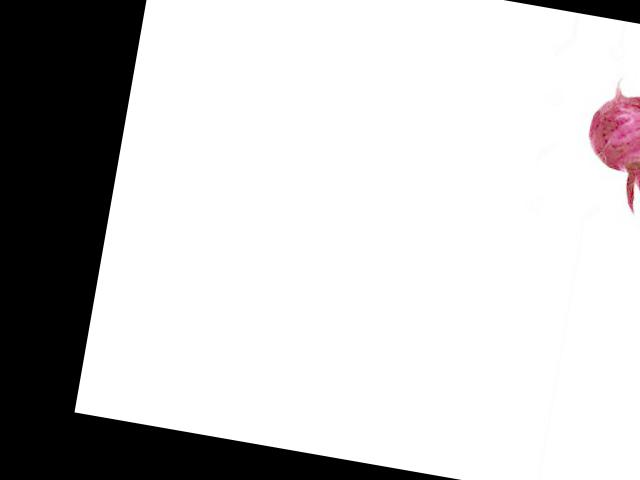beet: (575, 72, 640, 223)
